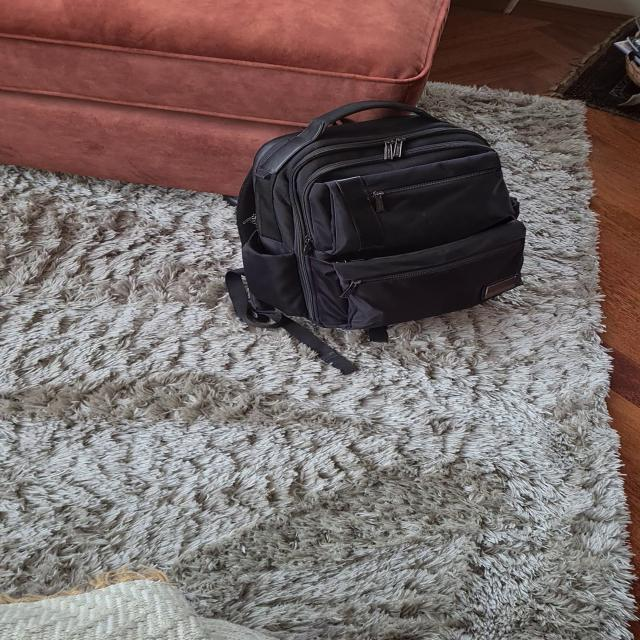backpack: (215, 95, 536, 345)
